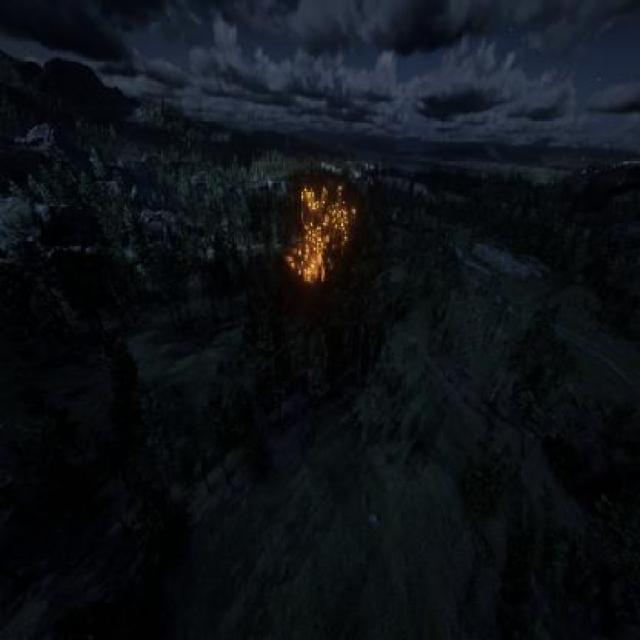Fire: (270, 170, 370, 300)
